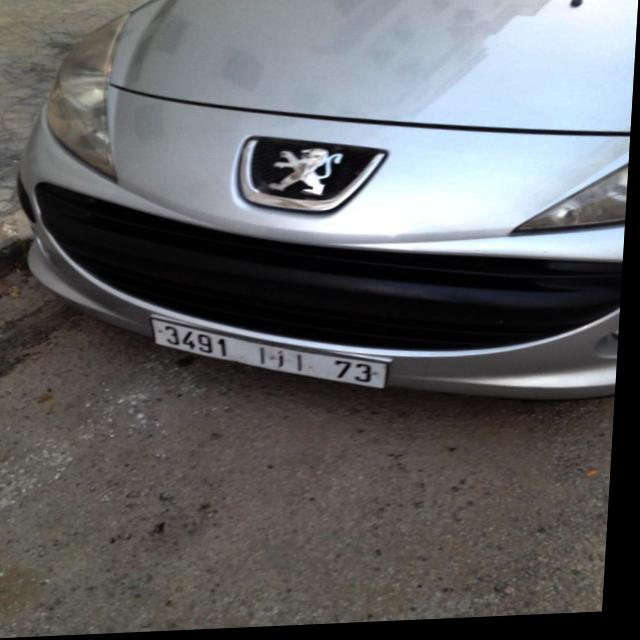License-Plate: (155, 321, 392, 391)
